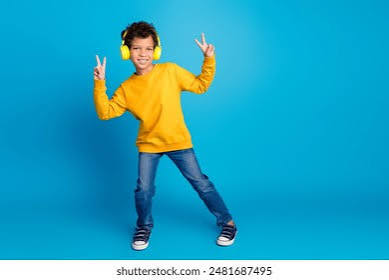peace_sign: (191, 30, 217, 57), (92, 52, 110, 83)
